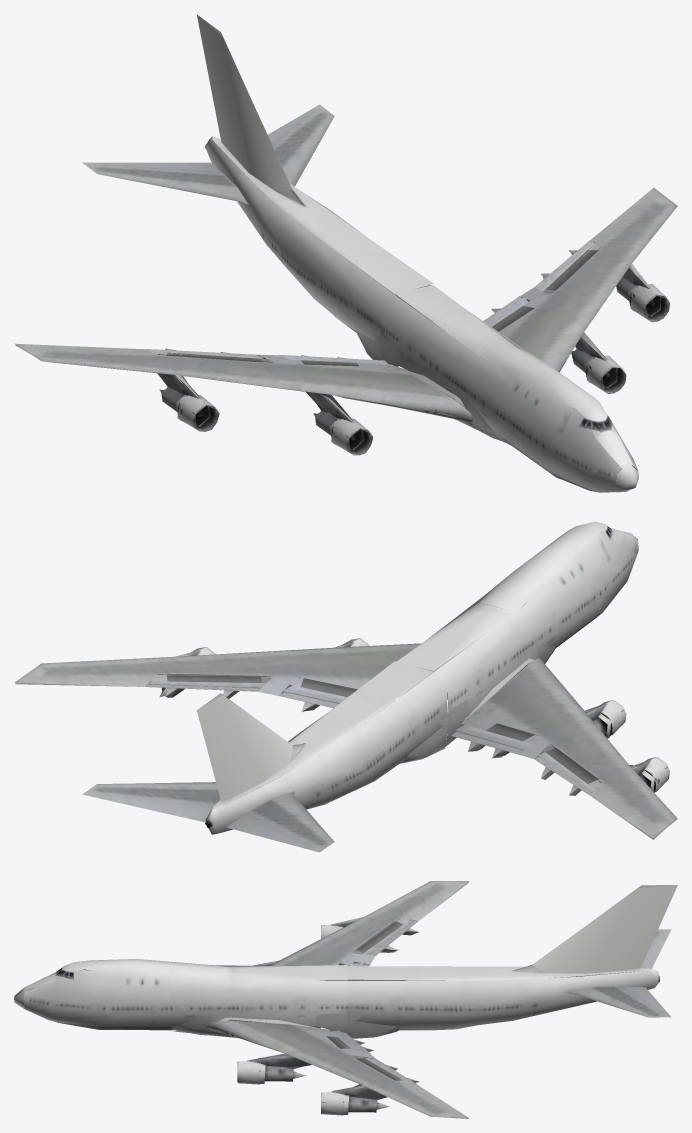
The model's file is airliner_747_lod1.glb.
3 renders of one model, top to bottom at view 1: azimuth 30°, elevation 25°; view 2: azimuth 150°, elevation 25°; view 3: azimuth 270°, elevation 25°, orthographic. The views are drawn at different scales.
Visible parts, largest first — view 1: LOD1; view 2: LOD1; view 3: LOD1.
Boxes of the visible parts, left/top/right/bottom form: LOD1: left=14, top=14, right=677, bottom=492; LOD1: left=14, top=521, right=677, bottom=852; LOD1: left=14, top=881, right=677, bottom=1118.
Size of the model in its own units: 59.64 by 17.85 by 70.59.
Materials: 3 (1 with a texture image).
